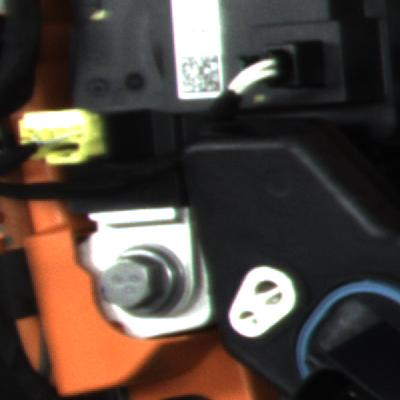nut_b: (94, 237, 197, 325)
